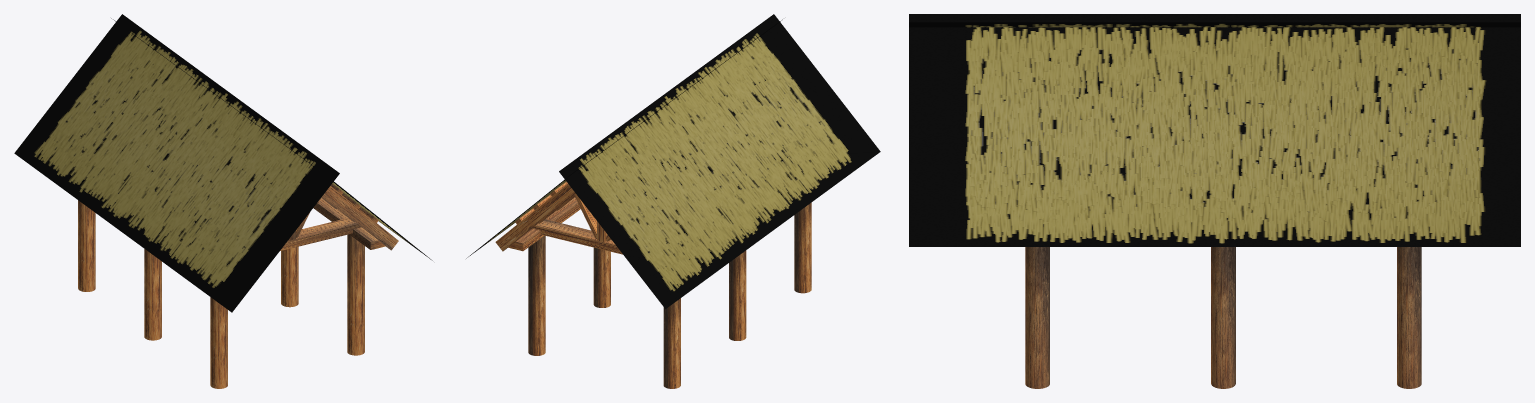
Rendered from rules-hut2.glb.
3 views of the same model, side by side, from view 1: azimuth 30°, elevation 25°; view 2: azimuth 150°, elevation 25°; view 3: azimuth 270°, elevation 25° (orthographic). The views are drawn at different scales.
Parts seen in each view (by area): view 1: Rules hut roof, Rules hut base; view 2: Rules hut roof, Rules hut base; view 3: Rules hut roof, Rules hut base.
Boxes of the visible parts, x1,y1,x2,y2 form: Rules hut roof: (14, 14, 432, 312); Rules hut base: (78, 198, 385, 388); Rules hut roof: (466, 14, 880, 308); Rules hut base: (508, 197, 811, 388); Rules hut roof: (909, 14, 1520, 246); Rules hut base: (1025, 247, 1421, 388).
Size of the model in its own units: 5.33 by 5.68 by 9.88.
4 materials, 4 textured.
